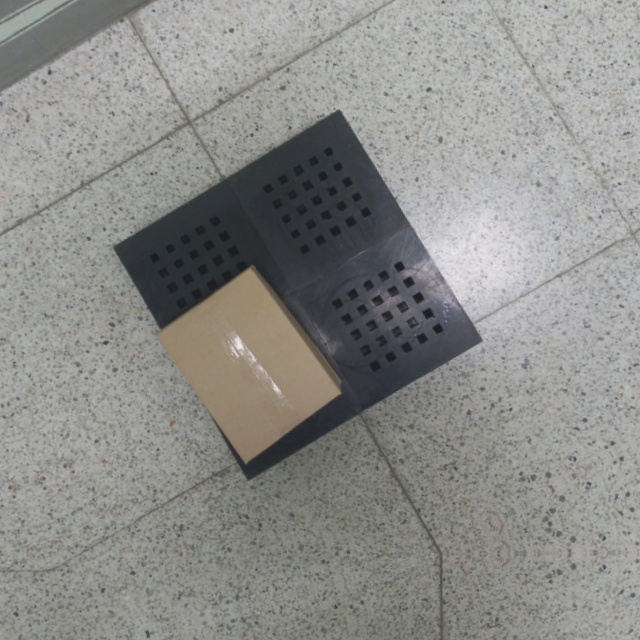box: (154, 260, 345, 470)
pallet: (89, 92, 499, 493)
